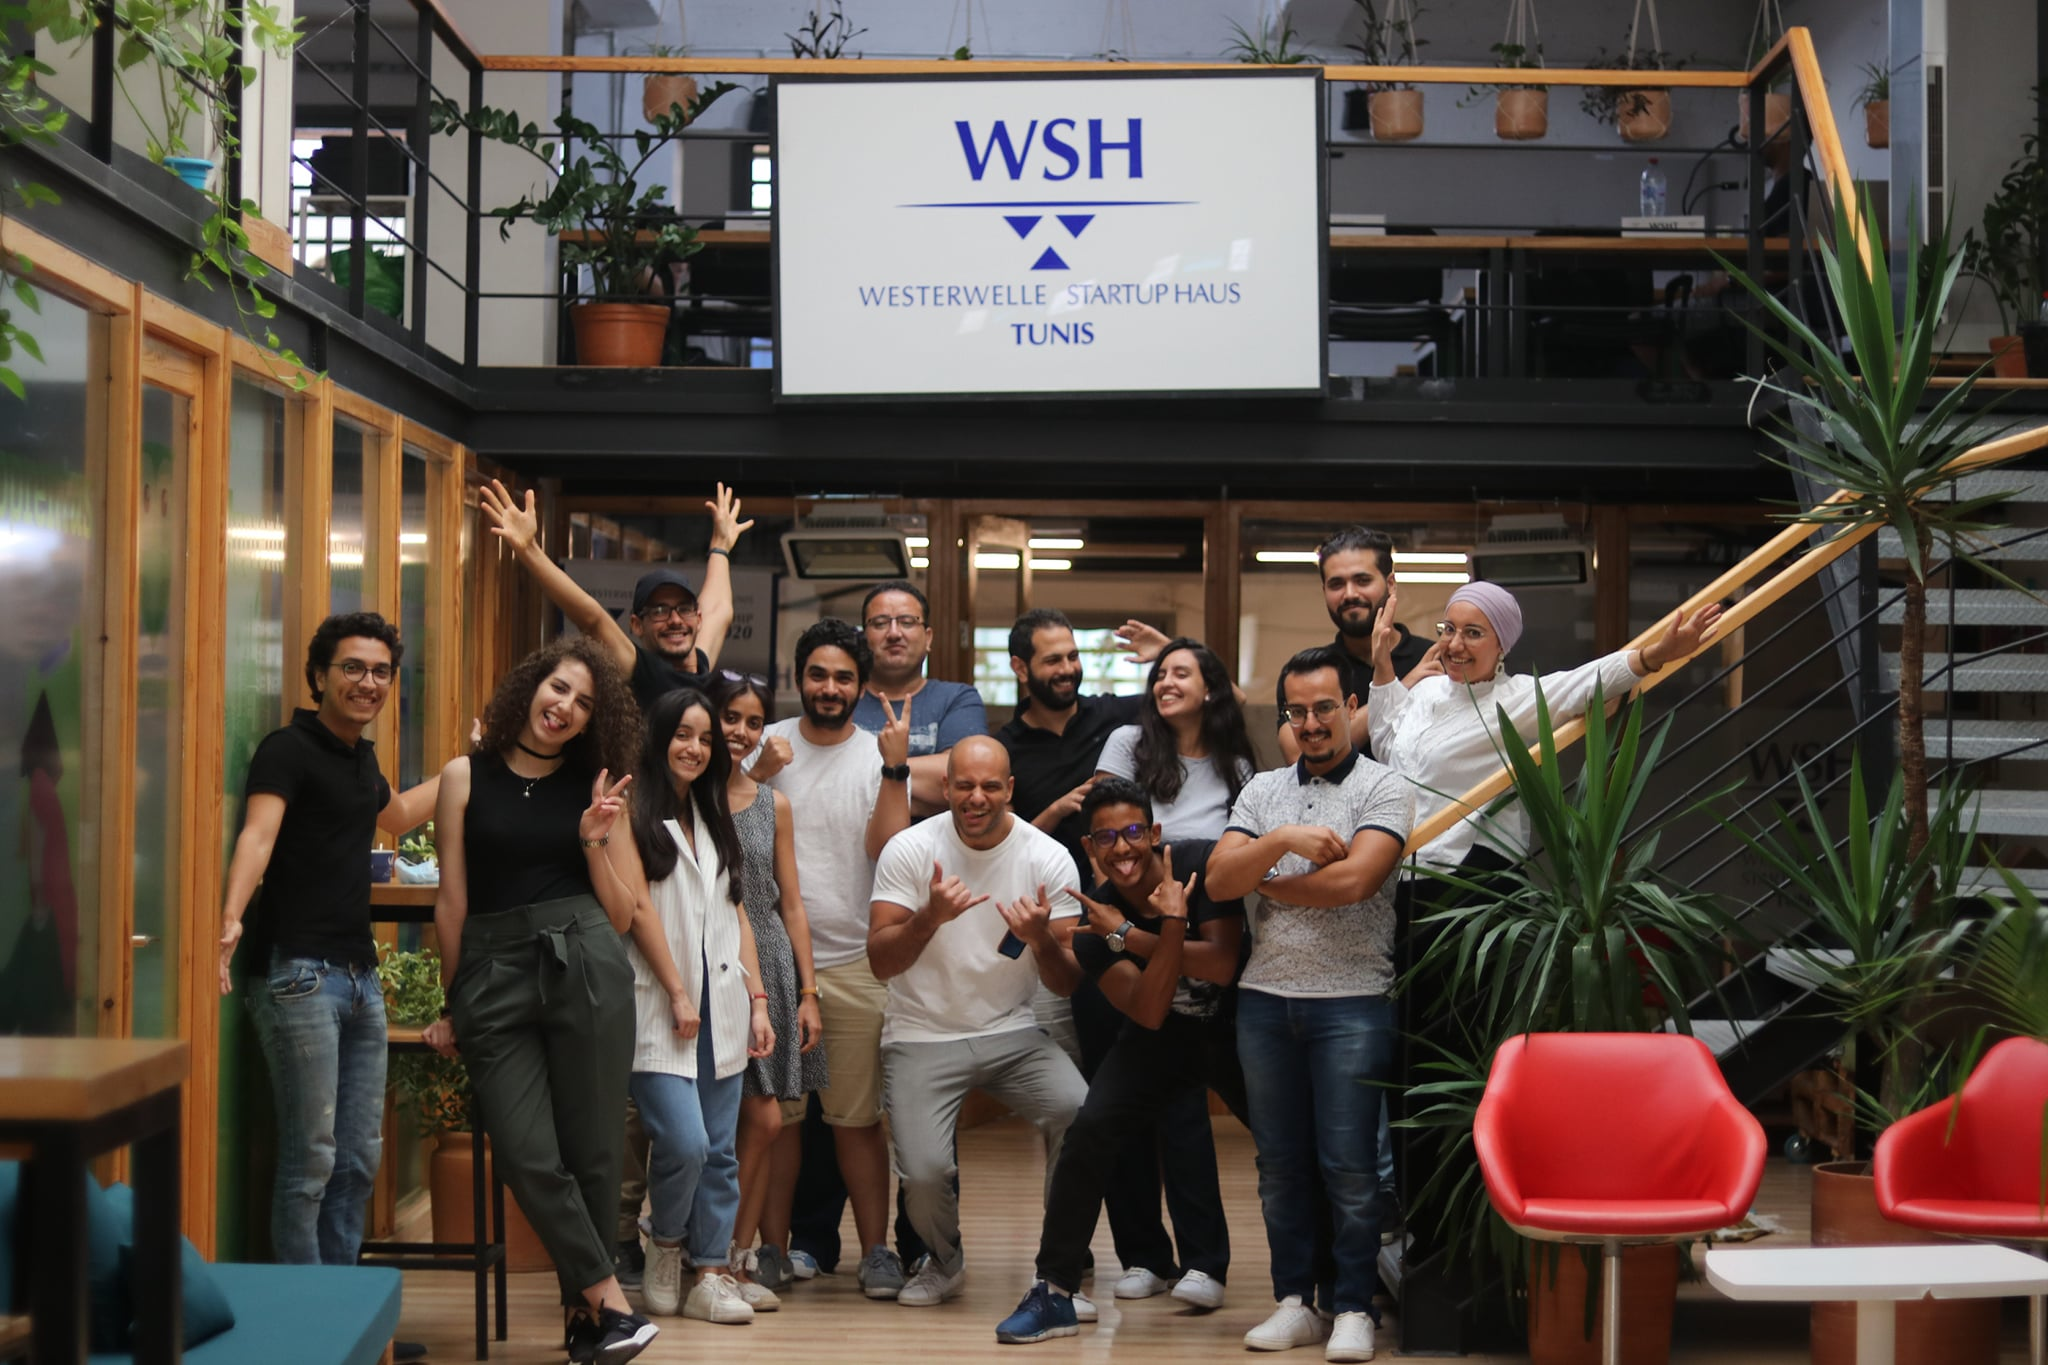without_mask: (865, 607, 927, 670), (536, 677, 597, 742), (1287, 695, 1344, 761), (1319, 568, 1378, 632), (948, 773, 1009, 833), (1090, 826, 1153, 882), (340, 655, 390, 720), (1440, 617, 1487, 685), (808, 665, 859, 721), (671, 720, 715, 782), (650, 602, 702, 652), (1039, 649, 1084, 702), (1156, 666, 1202, 717)
